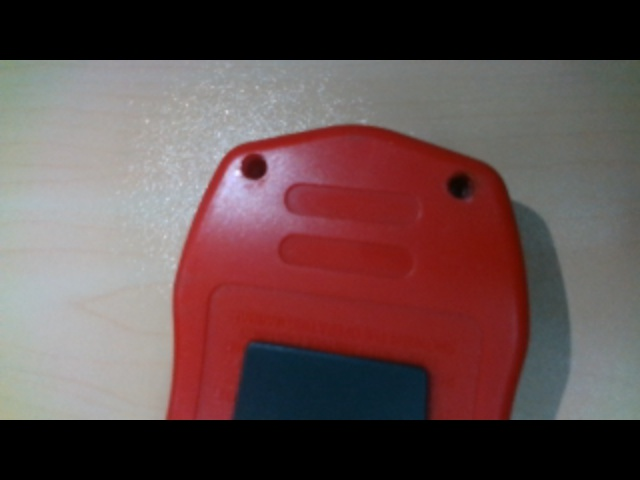Screw holes: (445, 166, 480, 206), (242, 152, 270, 183)
